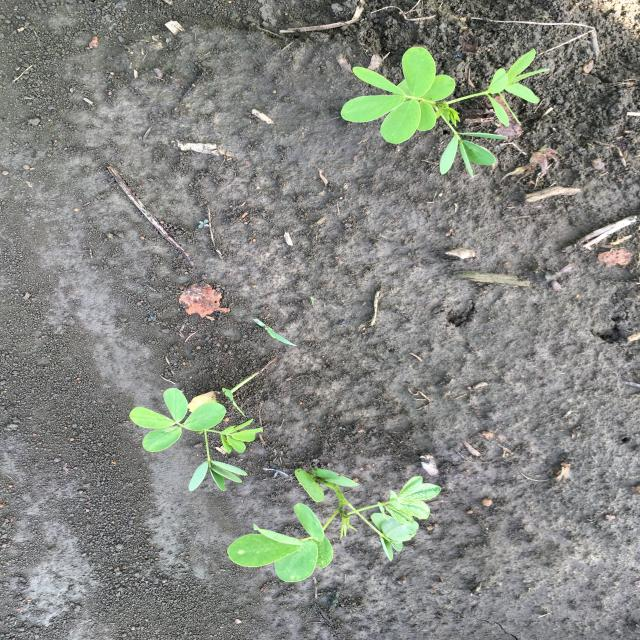Sicklepod: (338, 44, 554, 180), (226, 467, 444, 586), (126, 386, 266, 494)
